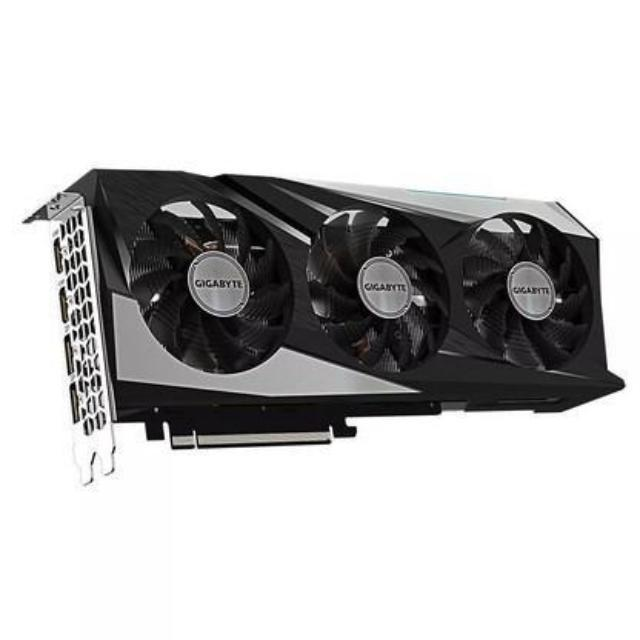GPU: (50, 165, 628, 464)
